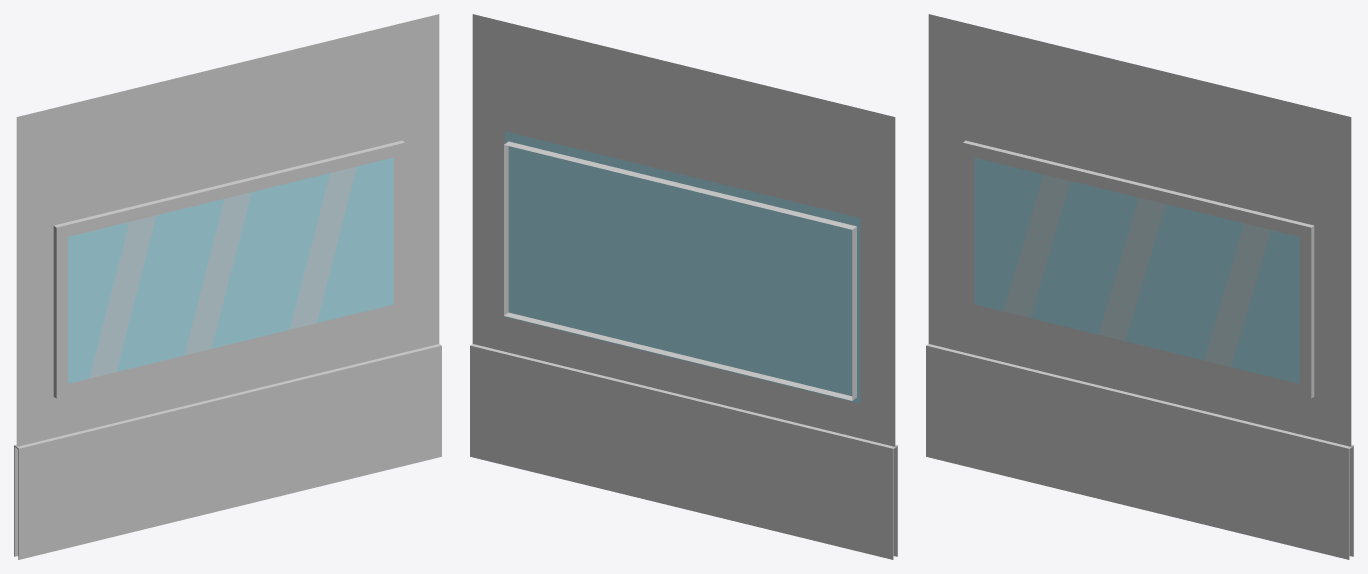
File: window.glb
3 views of the same model, side by side, from view 1: azimuth 30°, elevation 25°; view 2: azimuth 150°, elevation 25°; view 3: azimuth 330°, elevation 25° (orthographic).
Parts seen in each view (by area): view 1: Window; view 2: Window; view 3: Window.
Part boxes in pixels (<box>): Window: <box>14,14,441,559</box>; Window: <box>470,14,897,559</box>; Window: <box>926,14,1353,559</box>.
Bounding box in the file's own units: 4 × 3.99 × 0.1436.
